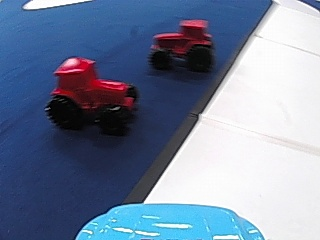tractor: (44, 53, 139, 134), (148, 15, 215, 73)
